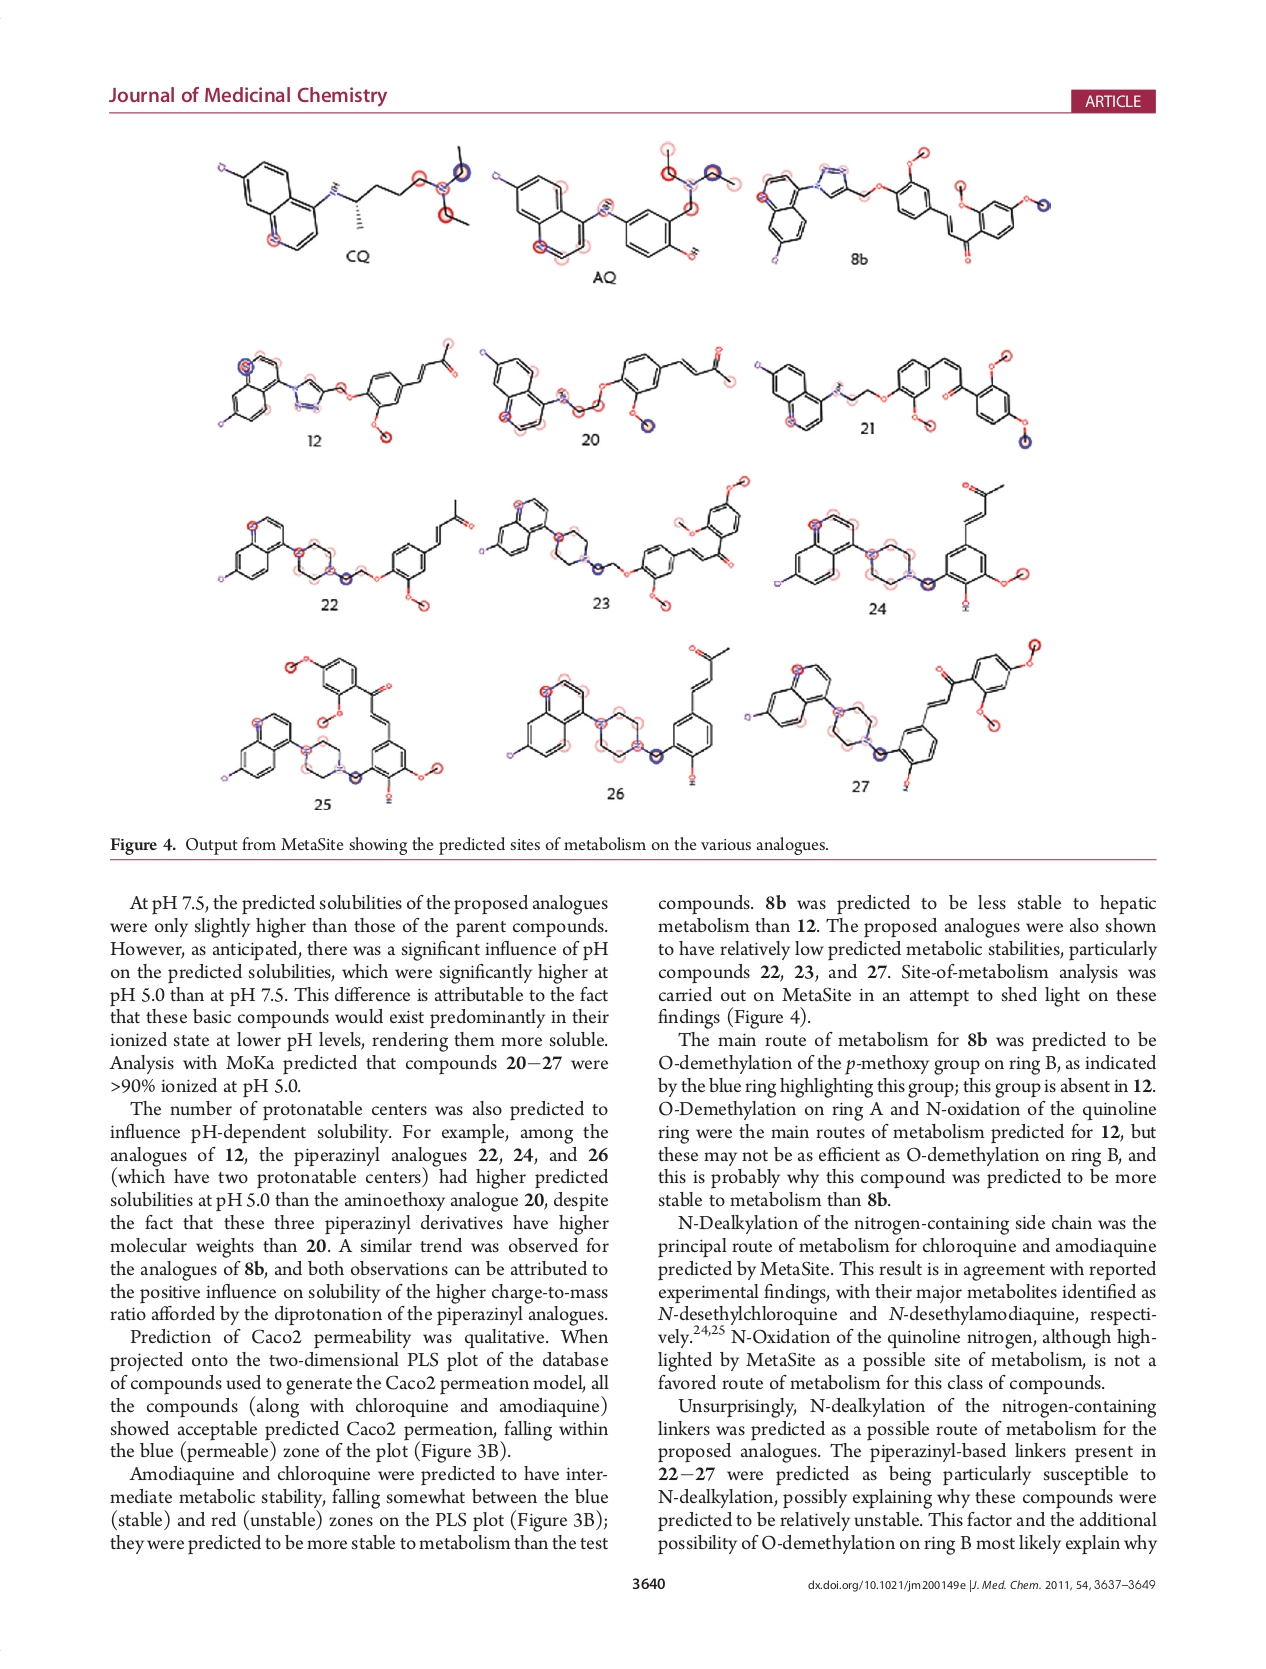exist_molecular: (742, 636, 1045, 795), (477, 472, 755, 614), (755, 146, 1053, 269), (770, 477, 1035, 614), (218, 648, 445, 805), (505, 642, 730, 789), (753, 340, 1036, 455), (489, 144, 743, 269), (215, 497, 476, 613), (211, 144, 473, 251), (215, 336, 460, 446), (475, 340, 738, 438)
